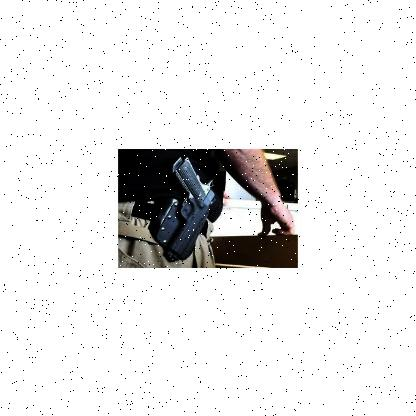gun: (154, 155, 220, 261)
